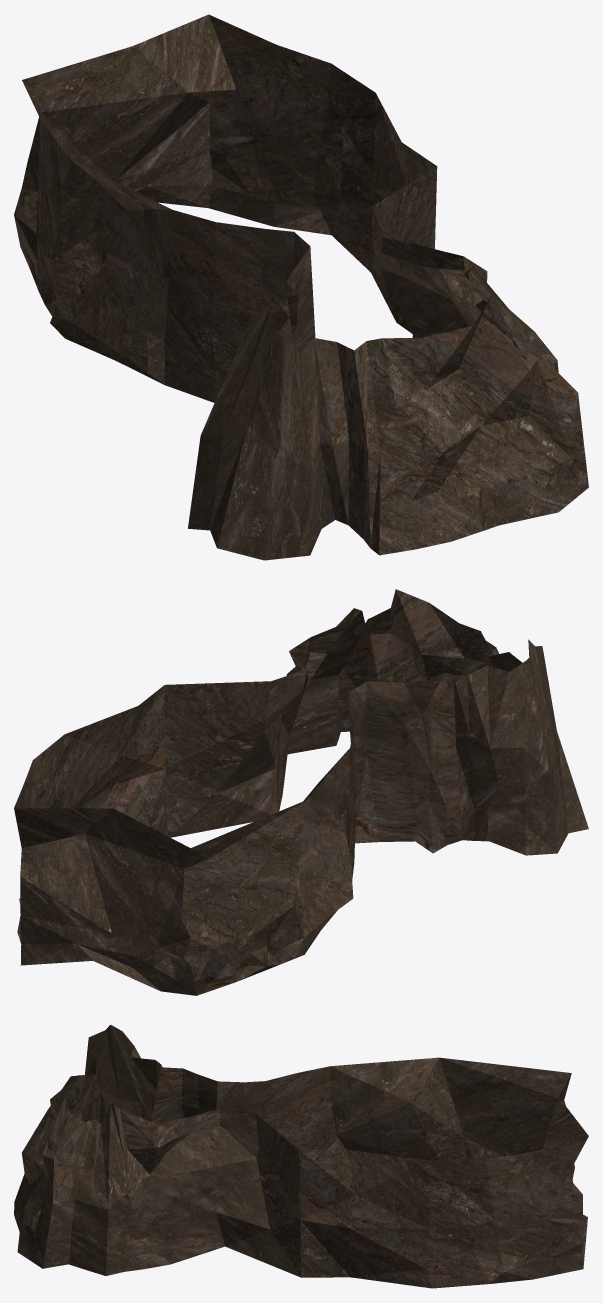
The model's file is Room_0.3.fbx.
3 renders of one model, top to bottom at view 1: azimuth 30°, elevation 25°; view 2: azimuth 150°, elevation 25°; view 3: azimuth 270°, elevation 25°, orthographic. The views are drawn at different scales.
Parts seen in each view (by area): view 1: Cube; view 2: Cube; view 3: Cube.
Part boxes in pixels (x1,y1,x2,y2): Cube: [14, 14, 588, 560]; Cube: [14, 589, 588, 995]; Cube: [14, 1024, 588, 1288].
Size of the model in its own units: 2511 by 1406 by 4491.
